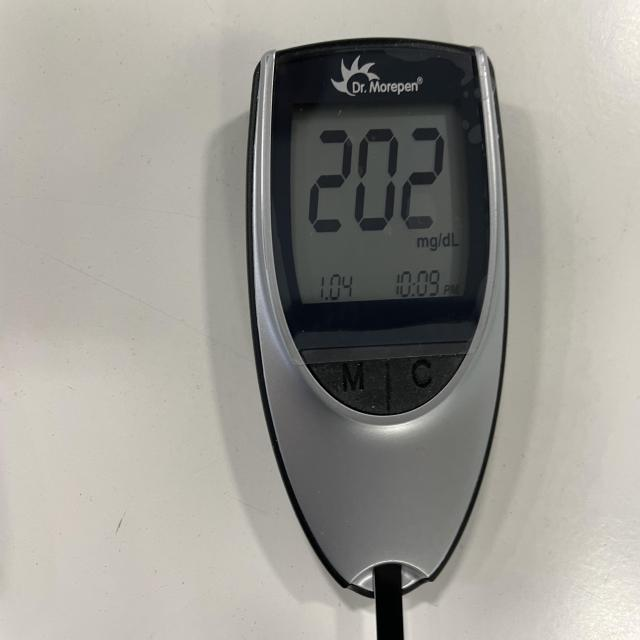gluco: (249, 38, 510, 601)
